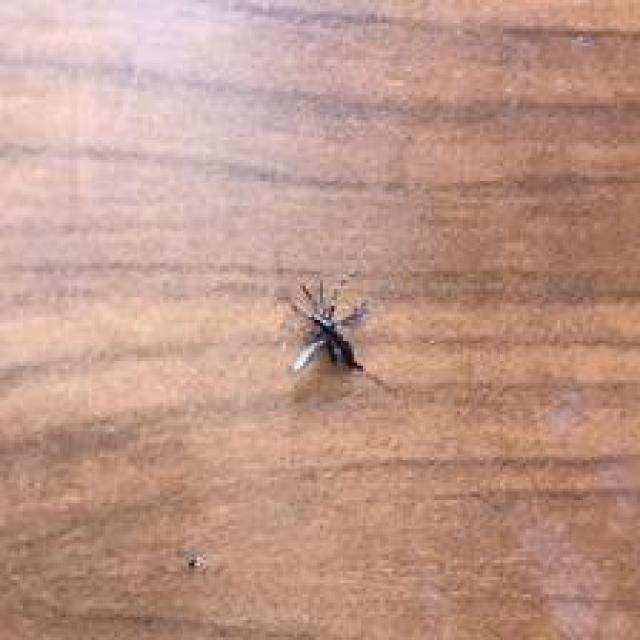Aedes albopictus: (284, 277, 373, 380)
